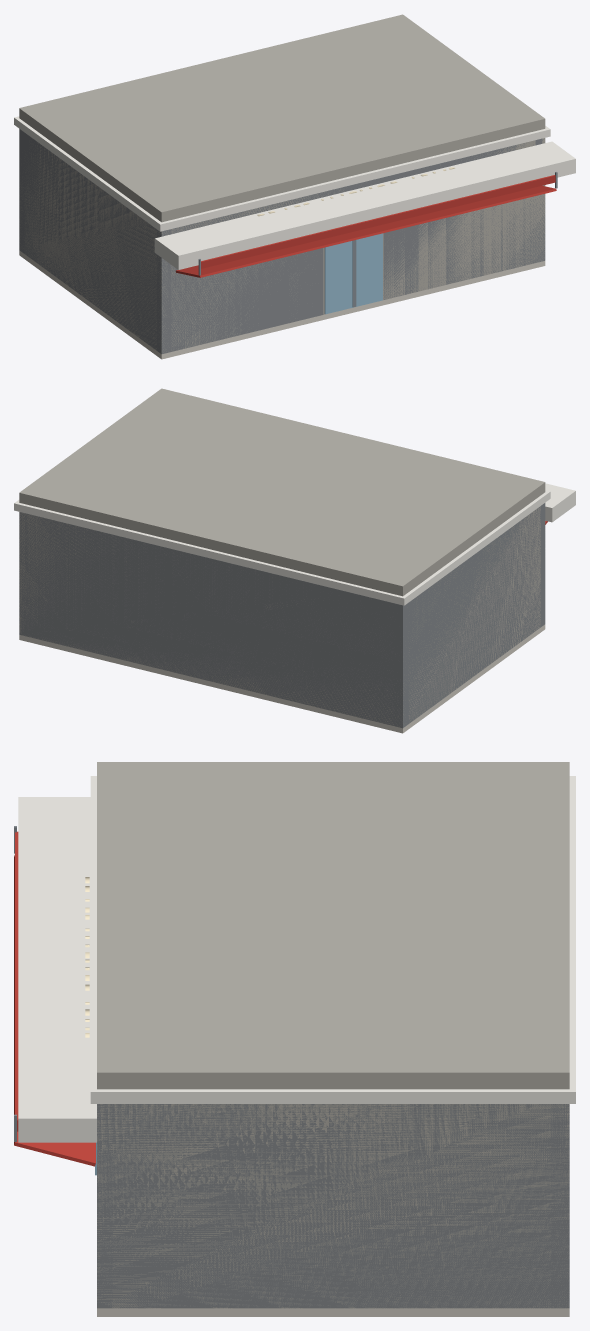
File: BLD_WeaponShop.fbx
3 renders of one model, top to bottom at view 1: azimuth 30°, elevation 25°; view 2: azimuth 150°, elevation 25°; view 3: azimuth 270°, elevation 25°, orthographic. The views are drawn at different scales.
Visible parts, largest first — view 1: BLD_WeaponShop__BODY, BLD_WeaponShop__COL_Main; view 2: BLD_WeaponShop__BODY, BLD_WeaponShop__COL_Main; view 3: BLD_WeaponShop__BODY, BLD_WeaponShop__COL_Main.
Boxes of the visible parts, x1,y1,x2,y2 form: BLD_WeaponShop__BODY: [14, 14, 575, 359]; BLD_WeaponShop__COL_Main: [19, 119, 545, 352]; BLD_WeaponShop__BODY: [14, 388, 575, 733]; BLD_WeaponShop__COL_Main: [19, 482, 545, 727]; BLD_WeaponShop__BODY: [14, 762, 575, 1316]; BLD_WeaponShop__COL_Main: [97, 1072, 569, 1308].
Size of the model in its own units: 14.5 by 5.13 by 10.7.
